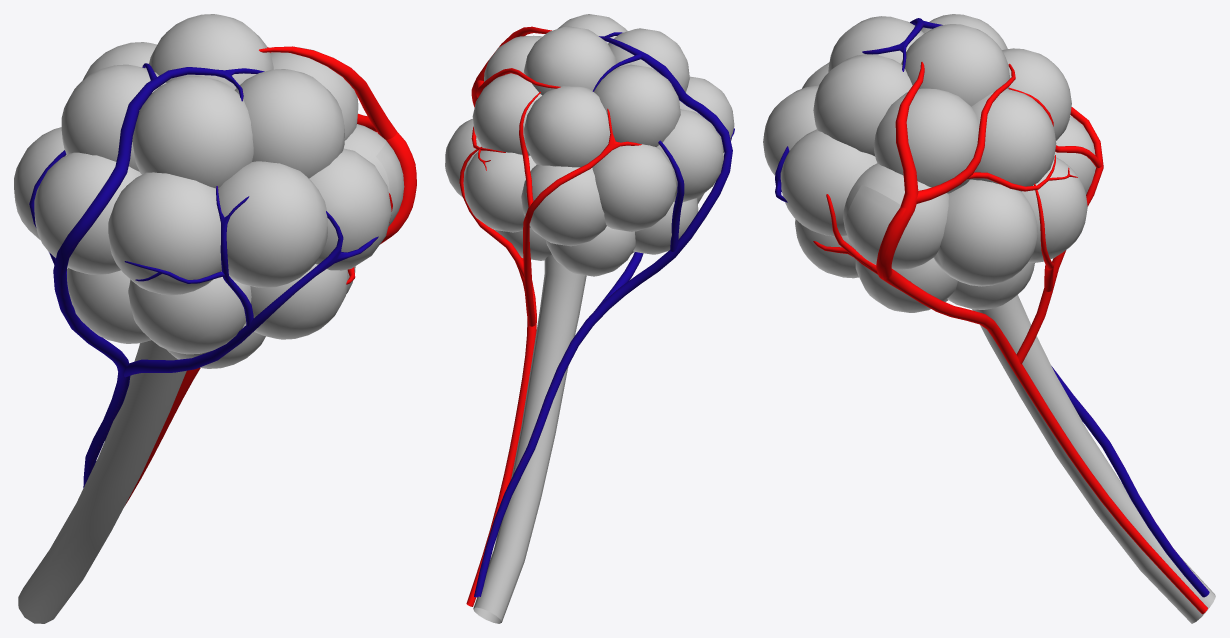
Rendered from F_feipao_Mesh_0106.fbx.
3 renders of one model, left to right at view 1: azimuth 30°, elevation 25°; view 2: azimuth 150°, elevation 25°; view 3: azimuth 270°, elevation 25°, orthographic. The views are drawn at different scales.
Parts seen in each view (by area): view 1: FeiPao, Mesh_BanXueGuan, Mesh_Qiu2; view 2: FeiPao; view 3: FeiPao, Mesh_Qiu2.
Boxes of the visible parts, x1,y1,x2,y2 form: FeiPao: [14, 14, 397, 623]; Mesh_BanXueGuan: [386, 132, 416, 236]; Mesh_Qiu2: [376, 140, 404, 226]; FeiPao: [445, 14, 734, 623]; FeiPao: [763, 14, 1215, 623]; Mesh_Qiu2: [844, 185, 900, 264].
Size of the model in its own units: 0.2421 by 0.4575 by 0.3101.
